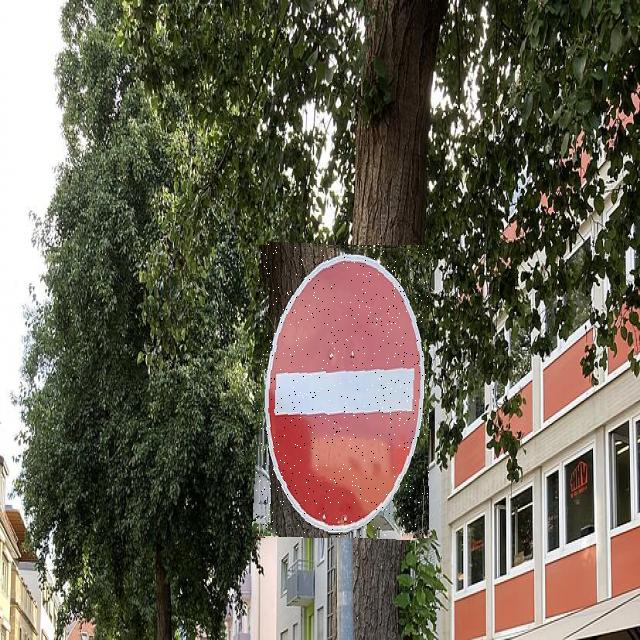no entry: (256, 243, 429, 538)
